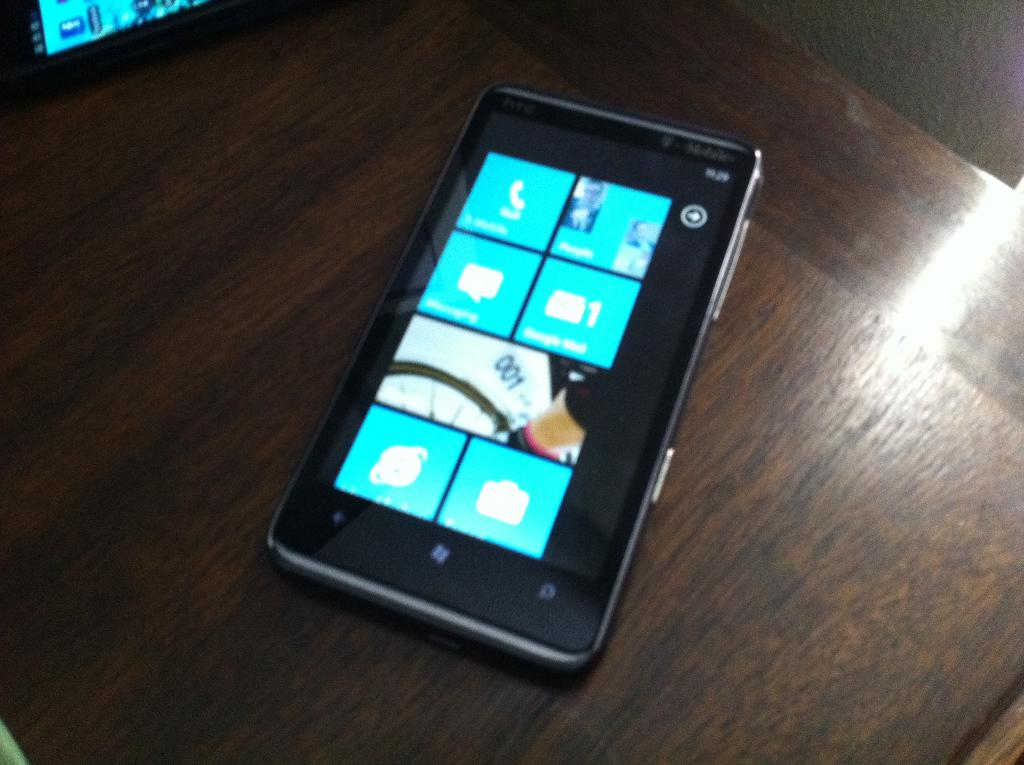mobile phone: (262, 84, 771, 679)
